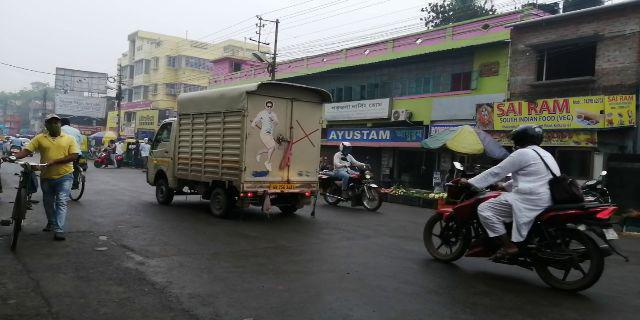Cycle: (7, 152, 40, 245)
Minitruck: (148, 88, 324, 212)
Motorbike: (415, 123, 623, 283), (322, 140, 383, 215)
